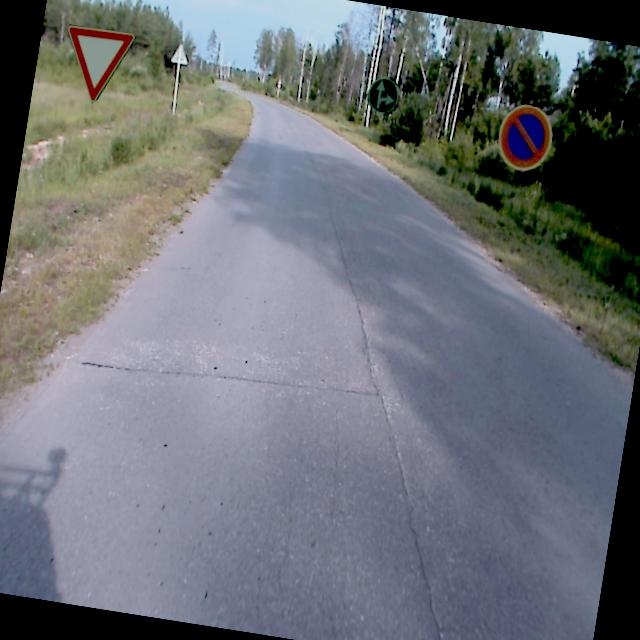road: (0, 97, 632, 640)
